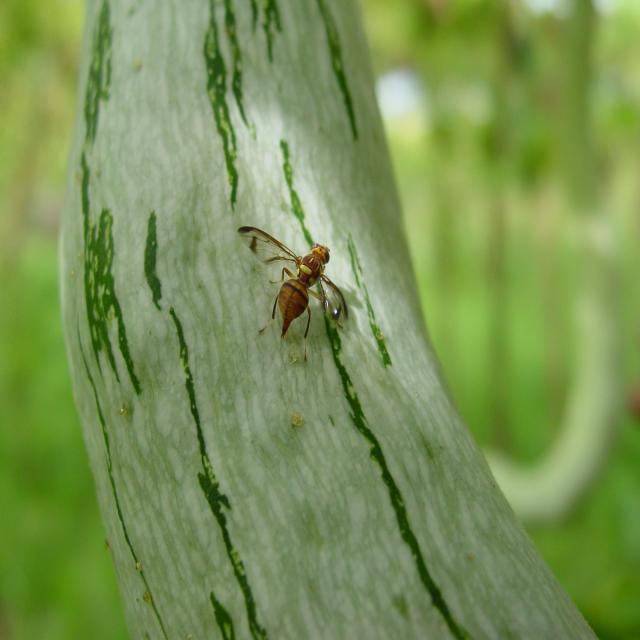Fruit fly: (227, 222, 359, 350)
